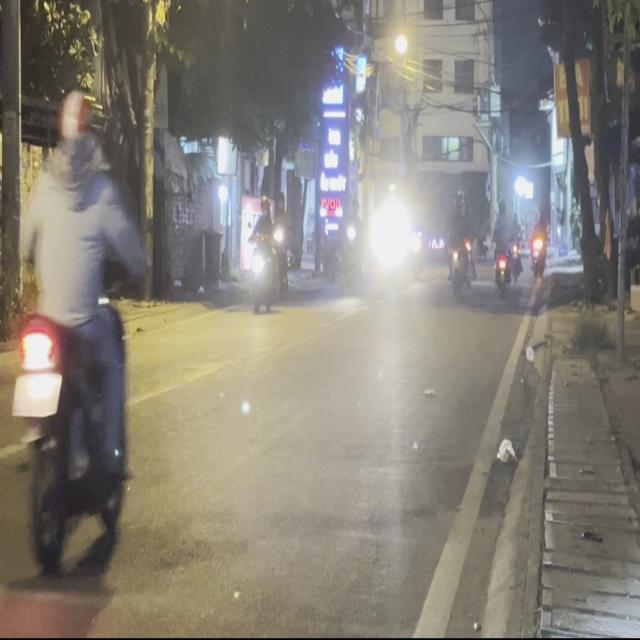helmet: (58, 88, 100, 163)
licenseplate: (8, 82, 143, 582)
nohelmet: (12, 372, 59, 415)
